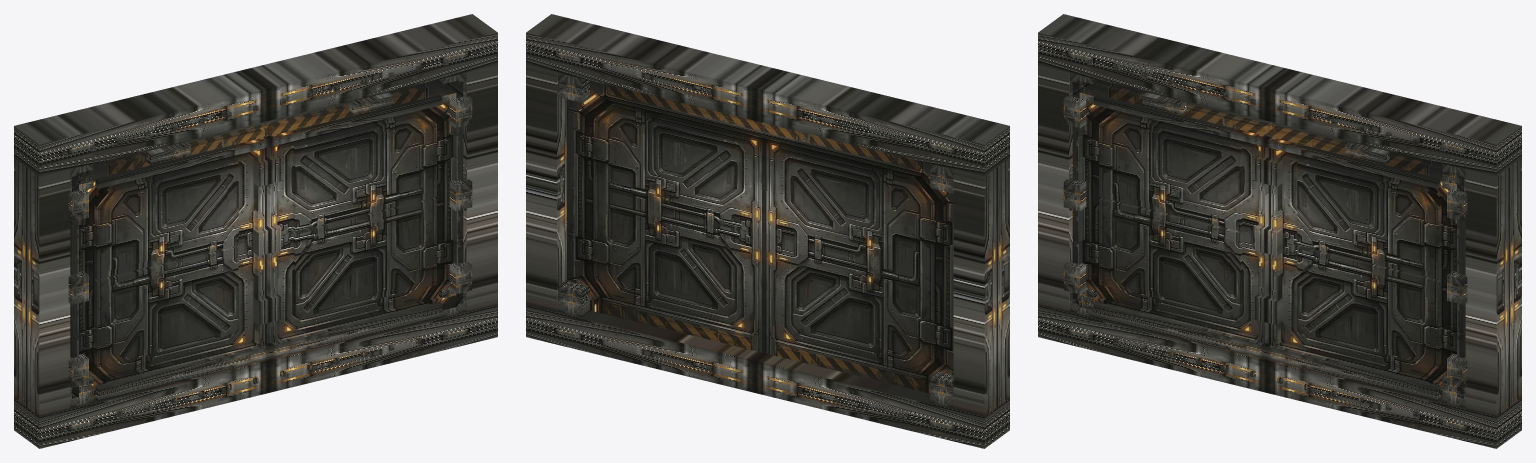
The model's file is hangar_kapi_ankora.glb.
The picture shows the model from 3 angles, left to right: view 1: azimuth 30°, elevation 25°; view 2: azimuth 150°, elevation 25°; view 3: azimuth 330°, elevation 25°; orthographic projection.
Visible parts, largest first — view 1: FRAME, DOOR_R, DOOR_L; view 2: FRAME, DOOR_R, DOOR_L; view 3: FRAME, DOOR_L, DOOR_R.
Boxes of the visible parts, left/top/right/bottom form: FRAME: left=14, top=14, right=497, bottom=448; DOOR_R: left=264, top=79, right=463, bottom=343; DOOR_L: left=70, top=122, right=270, bottom=398; FRAME: left=526, top=14, right=1009, bottom=448; DOOR_R: left=566, top=80, right=764, bottom=352; DOOR_L: left=765, top=123, right=953, bottom=393; FRAME: left=1038, top=14, right=1521, bottom=448; DOOR_L: left=1072, top=79, right=1271, bottom=343; DOOR_R: left=1265, top=122, right=1465, bottom=398.
Bounding box in the file's own units: 10.4 × 6.6 × 1.14.
Materials: 1 (1 with a texture image).
